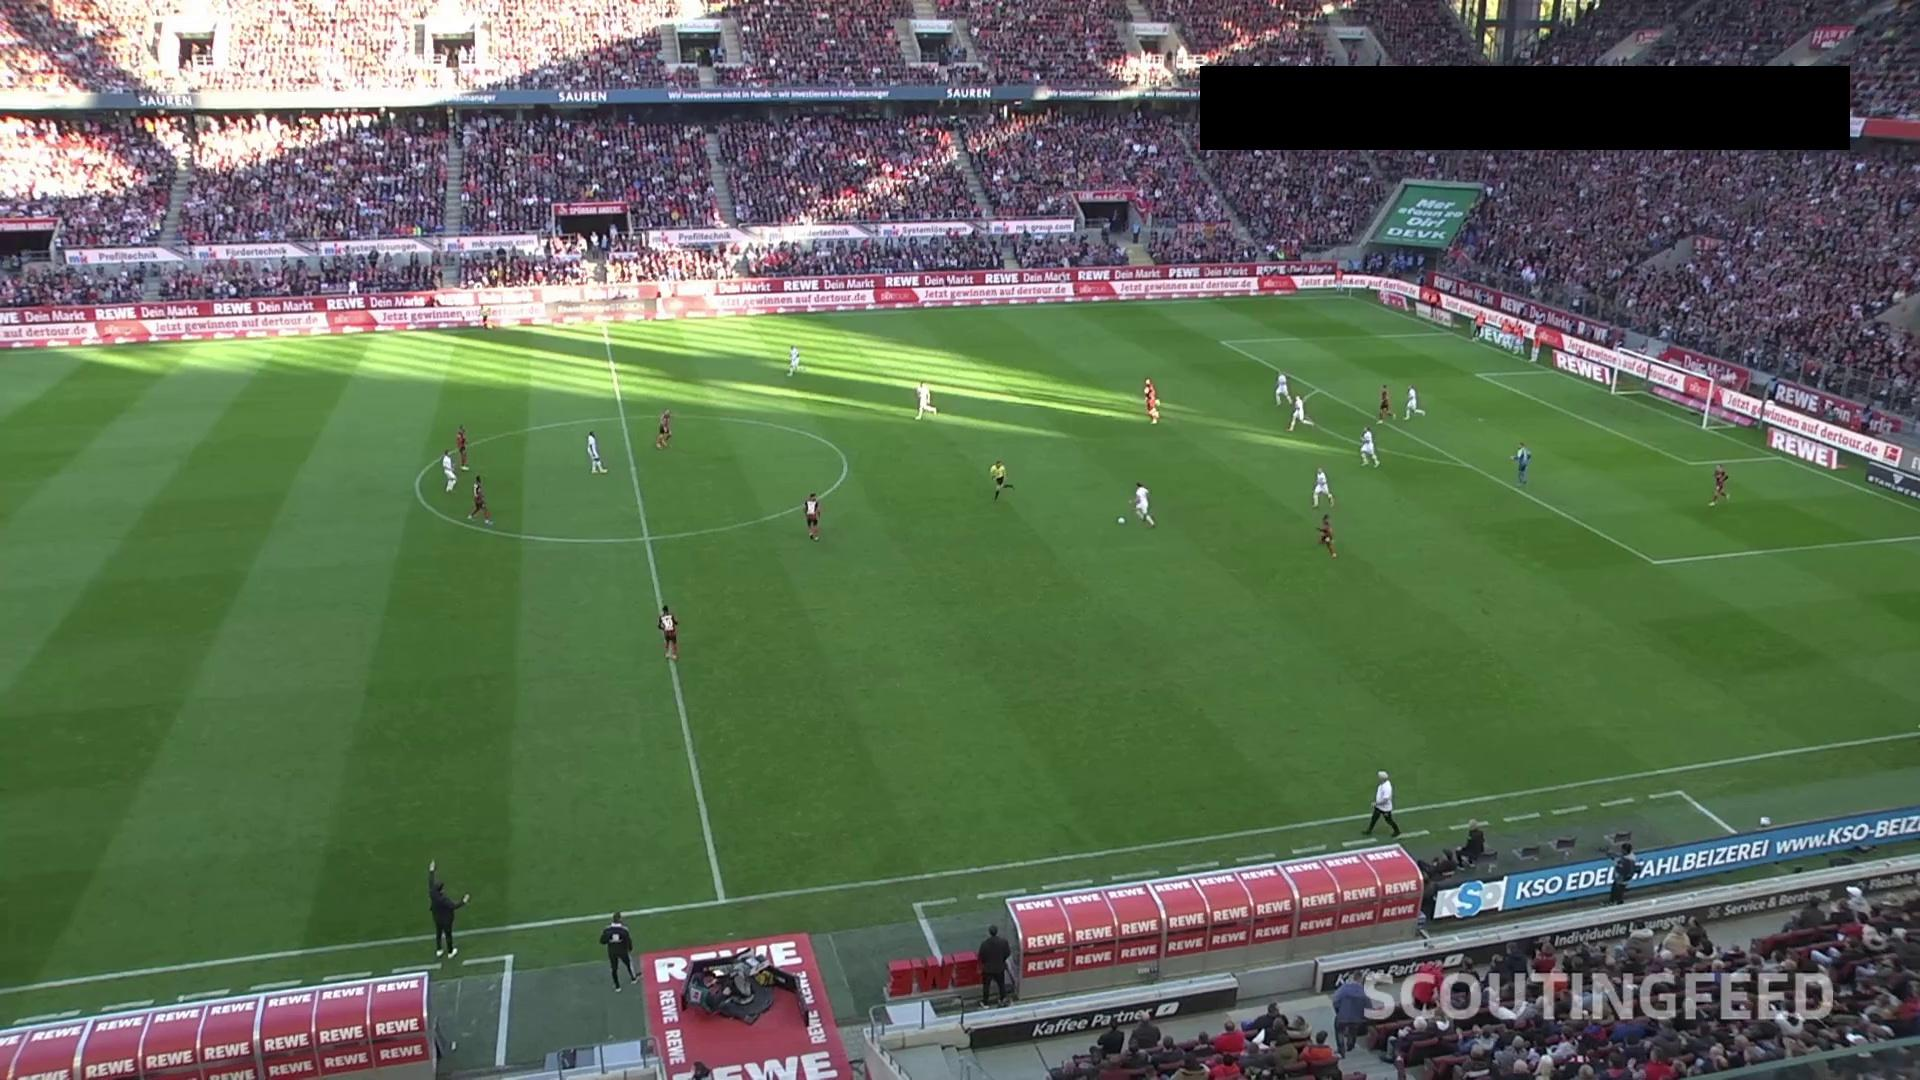Location-of-ball: (1114, 504, 1138, 542)
